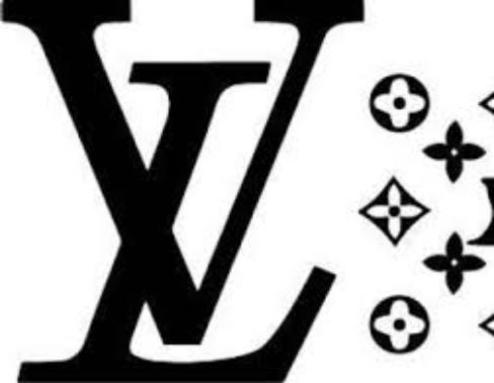LOUIS-VUITTON: (1, 1, 354, 374)
